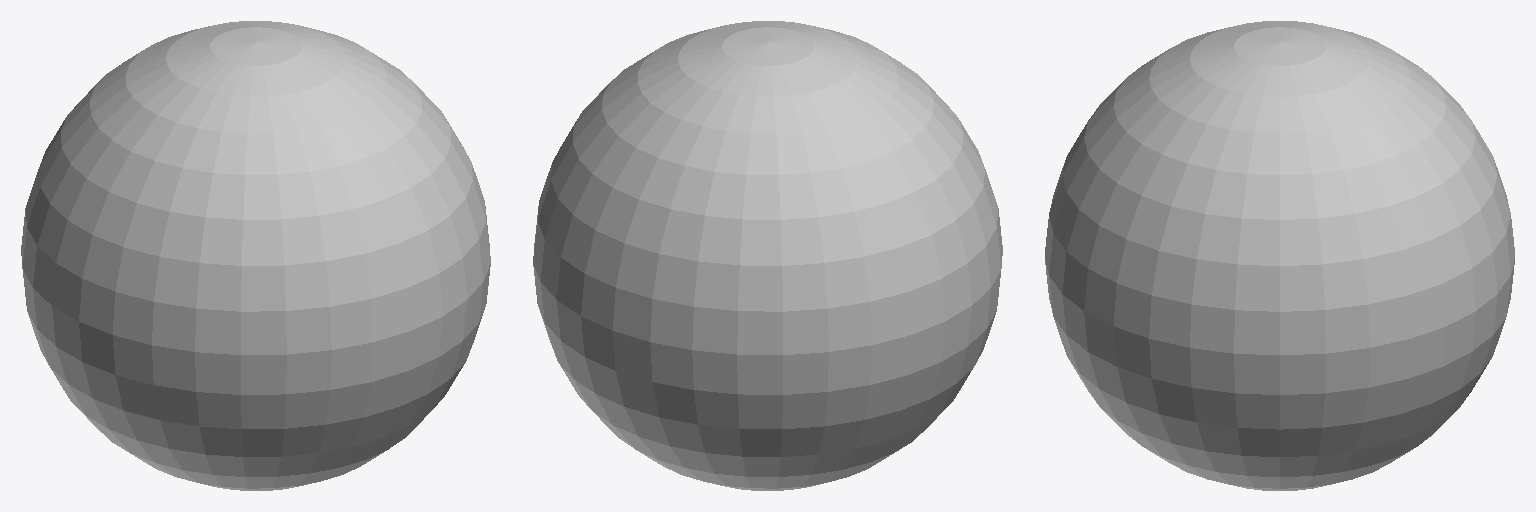
The model's file is MarbleSpirit_Normal.obj.
3 renders of one model, left to right at view 1: azimuth 30°, elevation 25°; view 2: azimuth 150°, elevation 25°; view 3: azimuth 270°, elevation 25°, orthographic.
Parts seen in each view (by area): view 1: Marble; view 2: Marble; view 3: Marble.
Boxes of the visible parts, box(x1,y1,x2,y2) form: Marble: box(21, 21, 490, 490); Marble: box(533, 21, 1002, 490); Marble: box(1045, 21, 1514, 490).
Size of the model in its own units: 2 by 2 by 2.